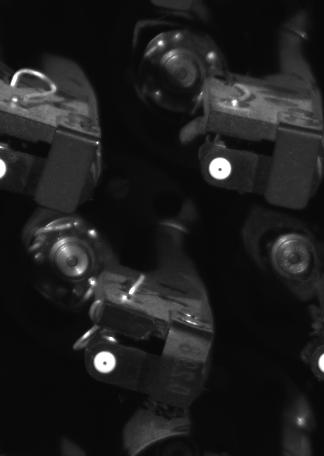fiber: (89, 344, 122, 379), (205, 153, 237, 186)
